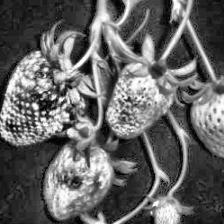Powdery Mildew Fruit: (0, 50, 89, 146), (105, 58, 176, 139)
